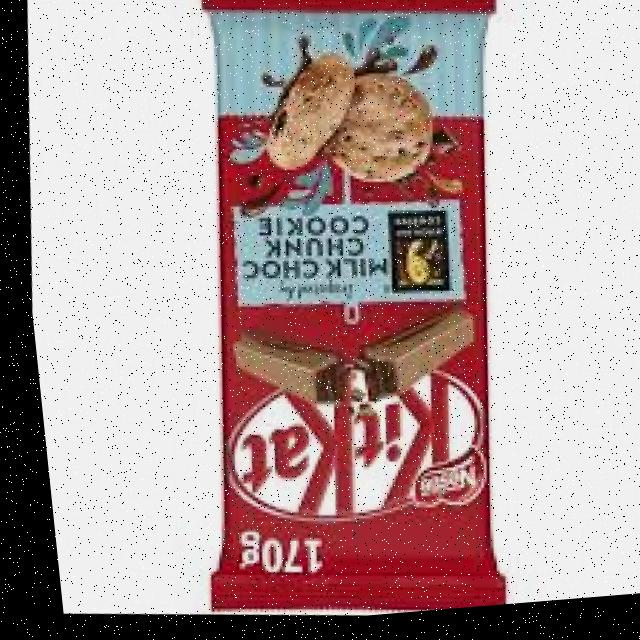kitkat: (144, 0, 544, 631)
